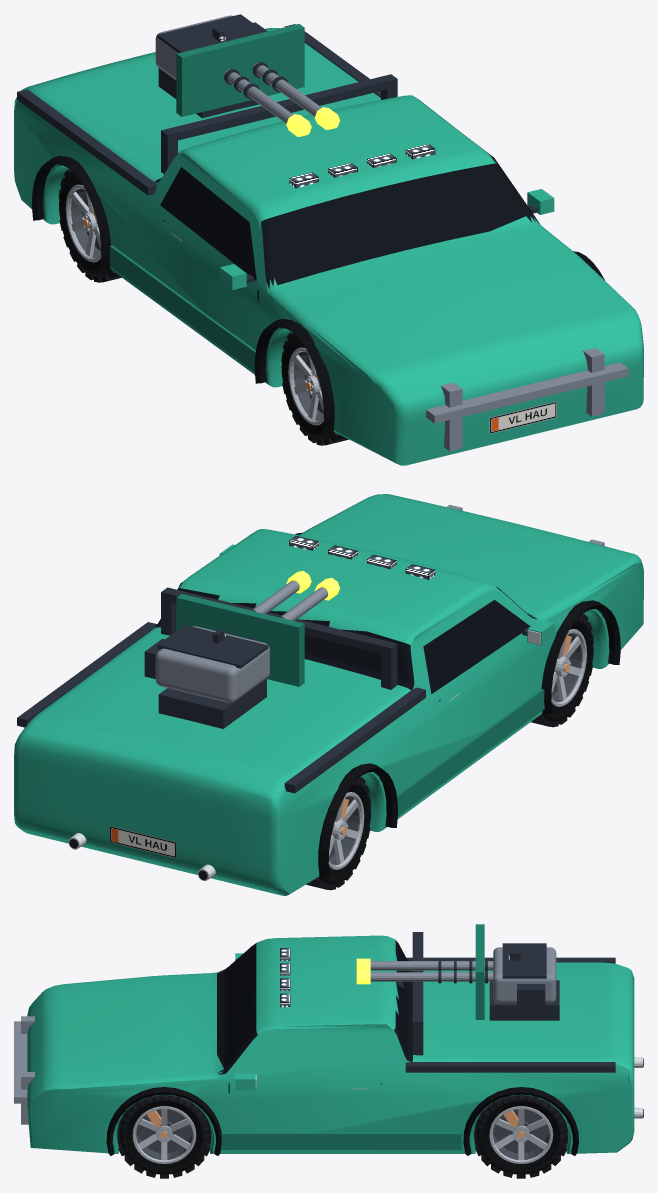
The model's file is hauler_ht.glb.
The picture shows the model from 3 angles, top to bottom: view 1: azimuth 30°, elevation 25°; view 2: azimuth 150°, elevation 25°; view 3: azimuth 270°, elevation 25°; orthographic projection. The views are drawn at different scales.
Parts seen in each view (by area): view 1: chassis, gun, wheel_FR, wheel_RR; view 2: chassis, gun, wheel_RR, wheel_FR; view 3: chassis, gun, wheel_FL, wheel_RL.
Boxes of the visible parts, x1,y1,x2,y2 form: chassis: (14,24,643,465); gun: (155,14,339,136); wheel_FR: (281,332,348,445); wheel_RR: (58,169,121,282); chassis: (14,494,643,895); gun: (144,570,339,702); wheel_RR: (306,776,371,890); wheel_FR: (531,614,593,727); chassis: (14,932,643,1155); gun: (356,924,556,1019); wheel_FL: (117,1094,211,1178); wheel_RL: (474,1094,568,1178).
Bounding box in the file's own units: 2.49 × 1.67 × 5.27.
Materials: 18 (5 with a texture image).
